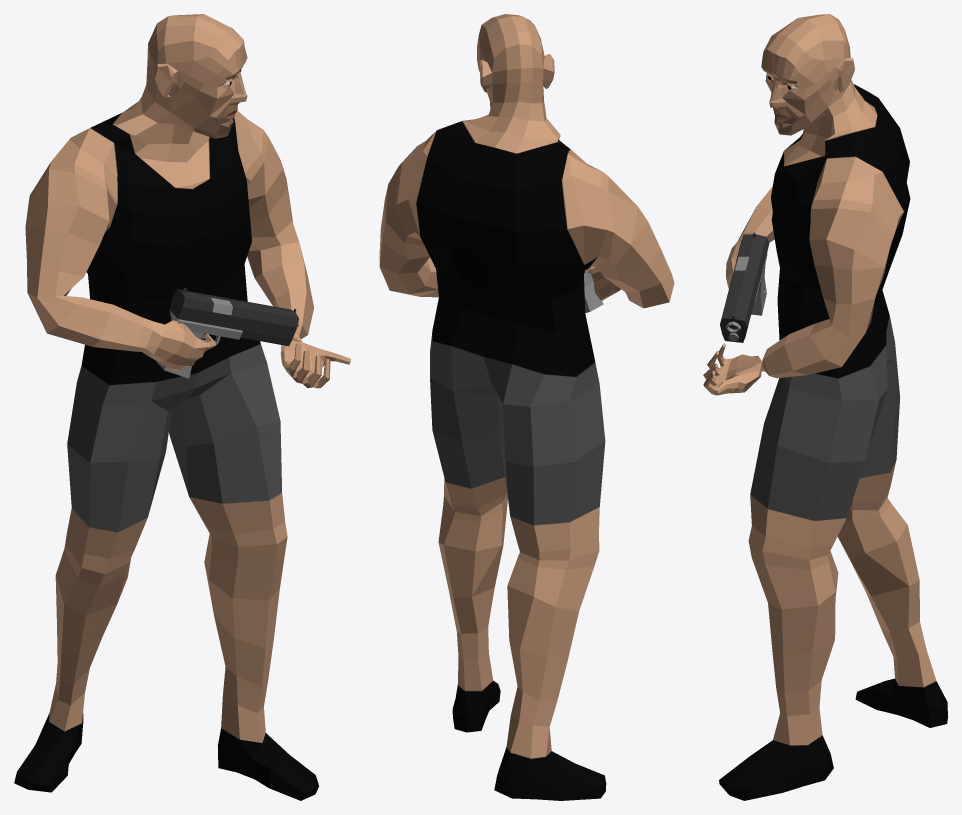
The model's file is PlayerIdle(121).obj.
The picture shows the model from 3 angles, left to right: view 1: azimuth 30°, elevation 25°; view 2: azimuth 150°, elevation 25°; view 3: azimuth 270°, elevation 25°; orthographic projection. The views are drawn at different scales.
Visible parts, largest first — view 1: Plane002, Box003; view 2: Plane002; view 3: Plane002, Box003.
Part boxes in pixels (x1,y1,x2,y2): Plane002: [14, 14, 350, 800]; Box003: [156, 288, 299, 378]; Plane002: [379, 14, 674, 800]; Plane002: [703, 14, 947, 800]; Box003: [720, 232, 769, 342].
Bounding box in the file's own units: 699 × 1800 × 539.
